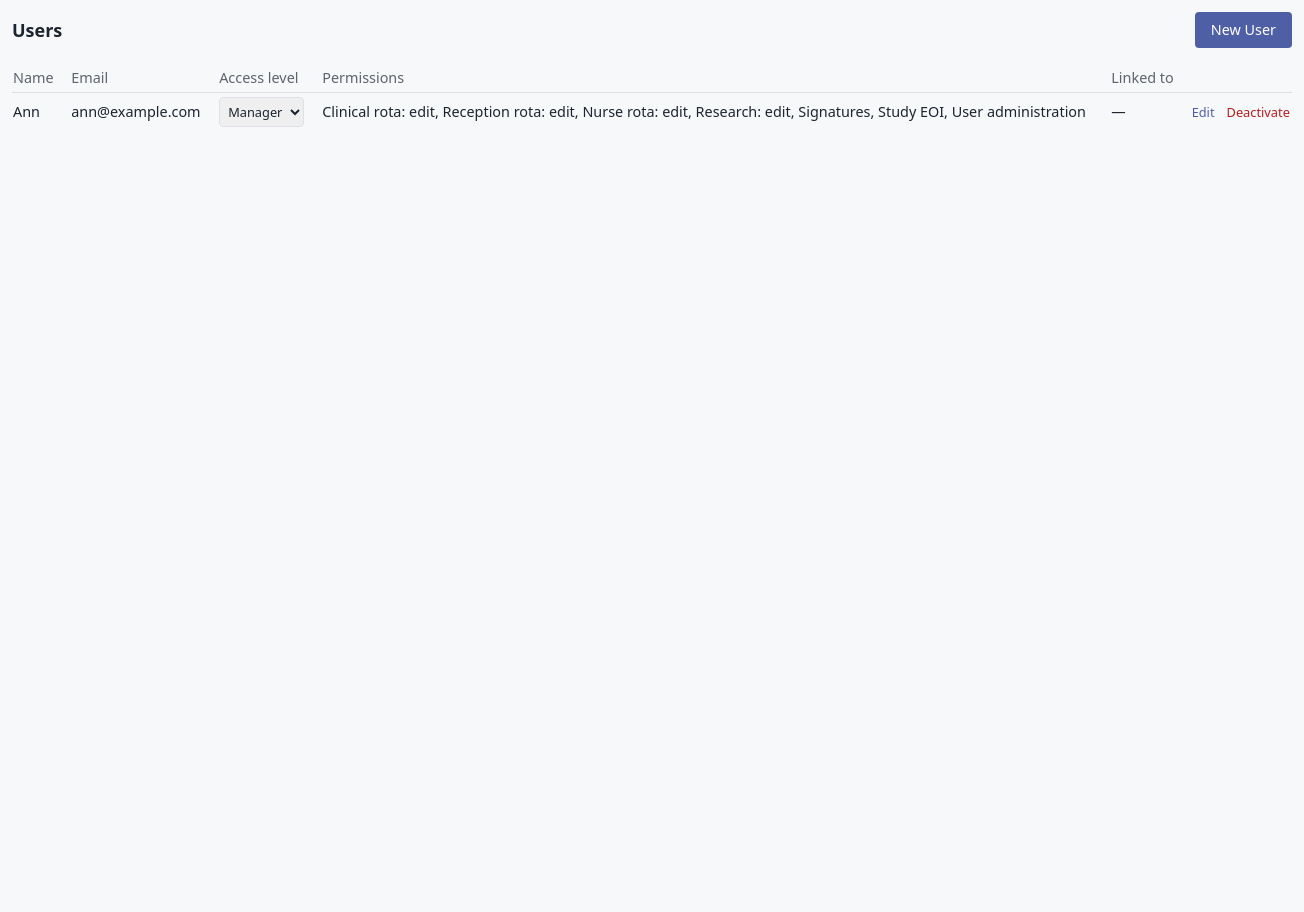
it: UsersPage access levels › a 409 on demoting the last active manager surfaces as a toast
The width and height of the screenshot is (1304, 912).
Expected: the text "Ann" is shown, left=12, top=92, right=70, bottom=131
Select "Nurse" in the dropdown named "Access level for Ann" at (262, 112), box left=219, top=97, right=304, bottom=127
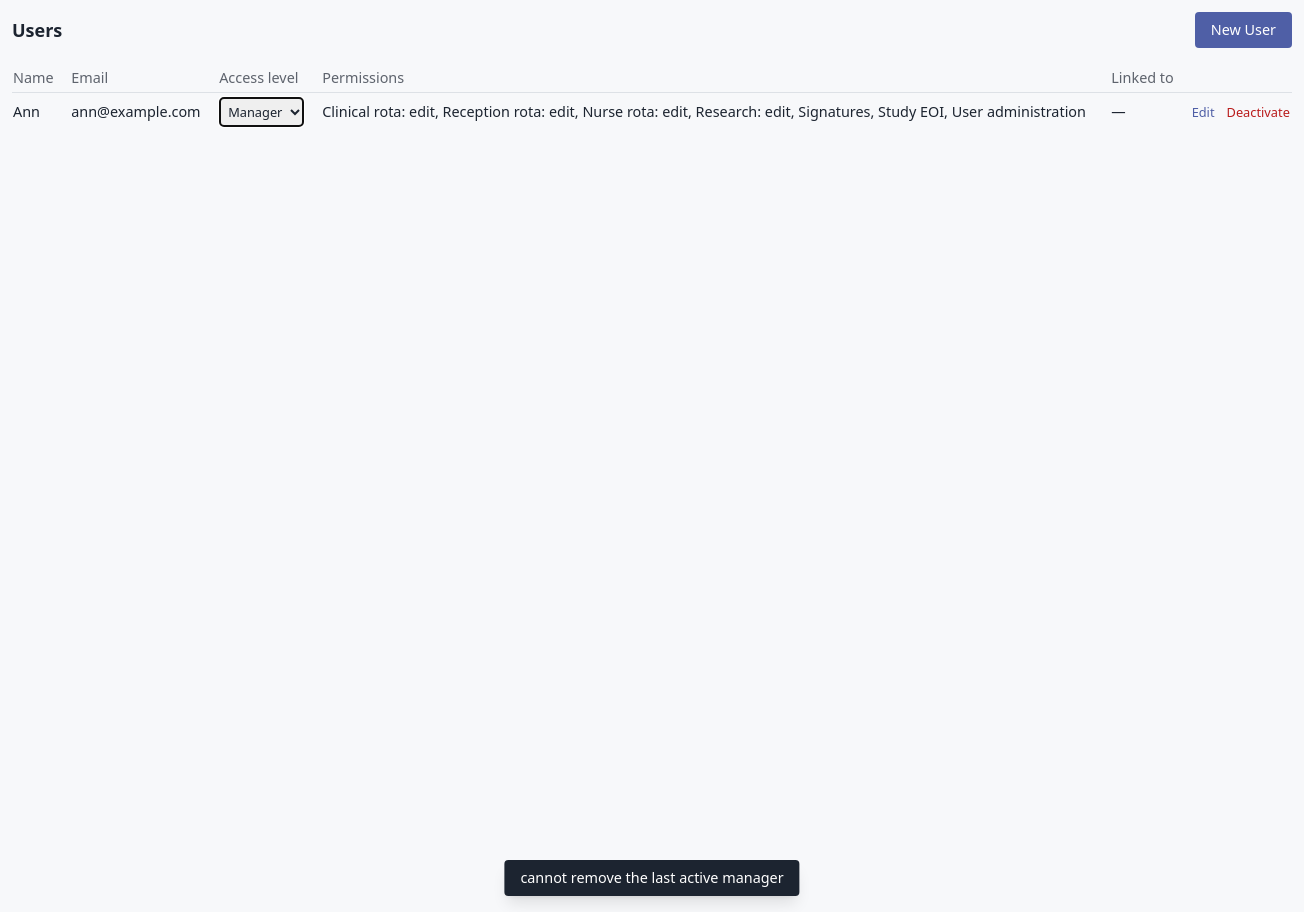
Expected: the text "cannot remove the last active manager" is shown, left=504, top=860, right=800, bottom=896
